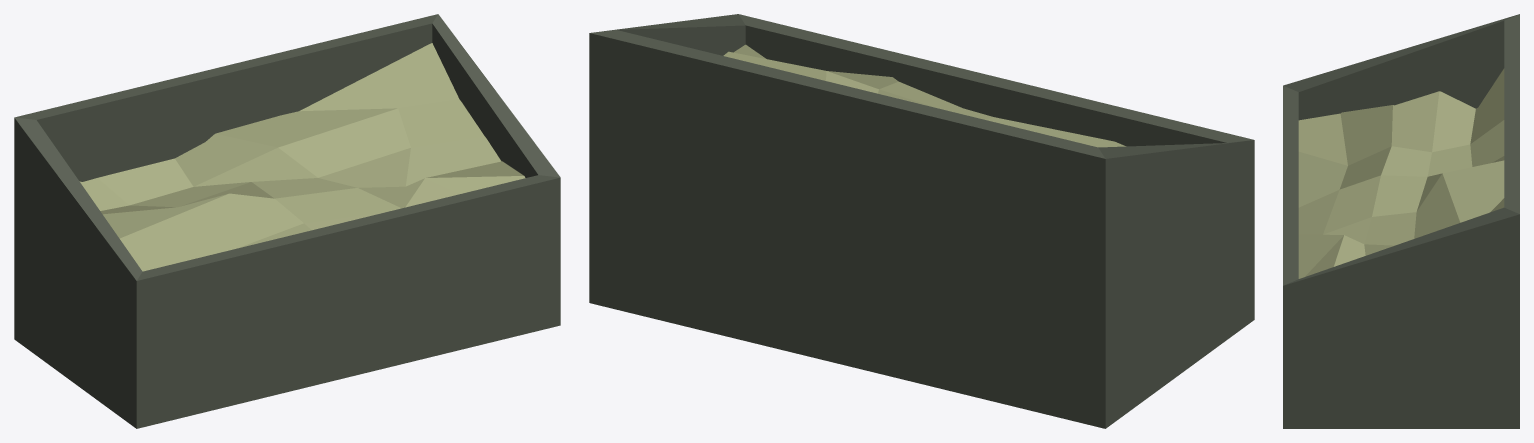
File: bigtrashcan.fbx
The picture shows the model from 3 angles, left to right: view 1: azimuth 30°, elevation 25°; view 2: azimuth 150°, elevation 25°; view 3: azimuth 270°, elevation 25°; orthographic projection. The views are drawn at different scales.
Parts seen in each view (by area): view 1: Cube.047, Plane.067; view 2: Cube.047, Plane.067; view 3: Cube.047, Plane.067.
Boxes of the visible parts, <box> form: Cube.047: <box>14,14,560,428</box>; Plane.067: <box>79,43,525,271</box>; Cube.047: <box>589,14,1254,428</box>; Plane.067: <box>723,44,1126,147</box>; Cube.047: <box>1283,14,1519,428</box>; Plane.067: <box>1298,68,1504,278</box>.
Bounding box in the file's own units: 300 × 150 × 150.
